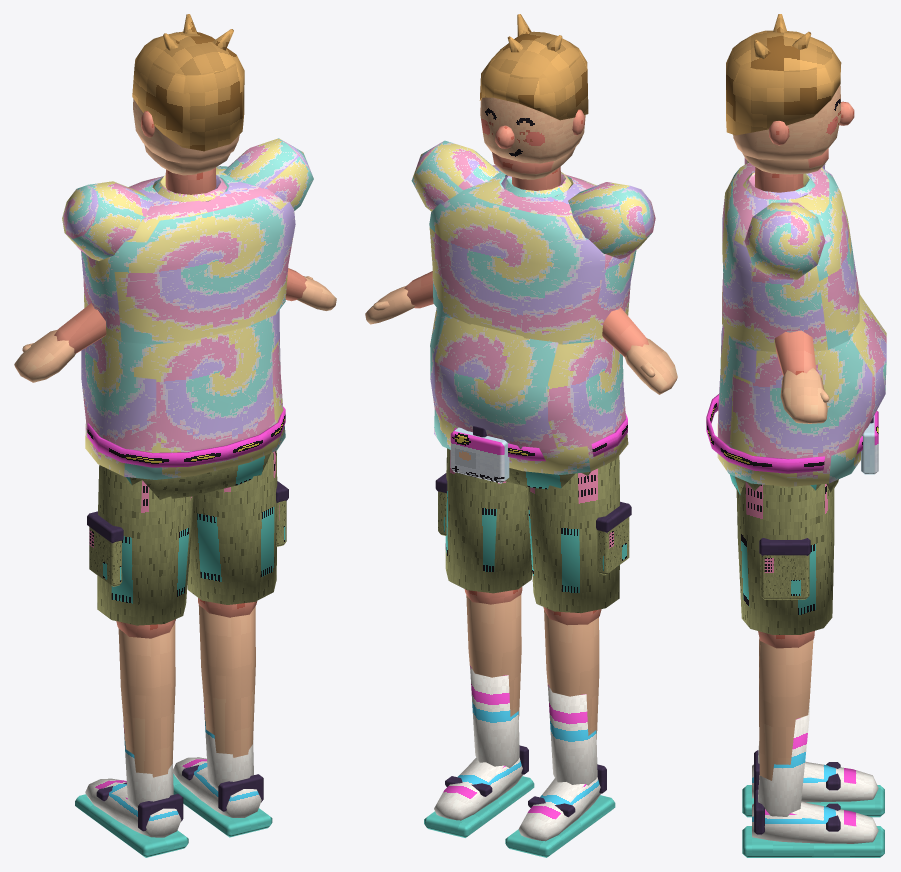
File: s_local_tiedye.glb
The picture shows the model from 3 angles, left to right: view 1: azimuth 30°, elevation 25°; view 2: azimuth 150°, elevation 25°; view 3: azimuth 270°, elevation 25°; orthographic projection. The views are drawn at different scales.
Visible parts, largest first — view 1: chest_m, spine_m, legL_m, head_m, legR_m, shinR_m, shinL_m, hips_m, footL_m, armL_m, footR_m, armR_m (+5 smaller); view 2: chest_m, spine_m, legL_m, head_m, legR_m, shinR_m, shinL_m, footR_m, footL_m, armL_m, hips_m, armR_m (+6 smaller); view 3: spine_m, chest_m, legR_m, head_m, shinR_m, footR_m, armR_m, footL_m, hips_m, handL_m, foreL_m, jaw_m (+1 smaller).
Boxes of the visible parts, left/top/right/bottom form: chest_m: left=81, top=166, right=295, bottom=344; spine_m: left=81, top=310, right=285, bottom=479; legL_m: left=87, top=465, right=193, bottom=638; head_m: left=132, top=14, right=244, bottom=163; legR_m: left=187, top=450, right=288, bottom=617; shinR_m: left=198, top=605, right=255, bottom=788; shinL_m: left=118, top=622, right=175, bottom=807; hips_m: left=87, top=406, right=285, bottom=499; footL_m: left=75, top=778, right=188, bottom=857; armL_m: left=62, top=181, right=152, bottom=260; footR_m: left=173, top=757, right=272, bottom=837; armR_m: left=219, top=138, right=313, bottom=210; chest_m: left=429, top=165, right=636, bottom=344; spine_m: left=430, top=308, right=628, bottom=474; legL_m: left=527, top=456, right=631, bottom=625; head_m: left=479, top=14, right=588, bottom=163; legR_m: left=435, top=448, right=532, bottom=604; shinR_m: left=466, top=595, right=521, bottom=767; shinL_m: left=544, top=610, right=599, bottom=785; footR_m: left=424, top=745, right=534, bottom=837; footL_m: left=505, top=764, right=615, bottom=857; armL_m: left=568, top=182, right=655, bottom=259; hips_m: left=450, top=413, right=627, bottom=489; armR_m: left=411, top=140, right=505, bottom=211; spine_m: left=717, top=294, right=886, bottom=486; chest_m: left=722, top=162, right=859, bottom=351; legR_m: left=736, top=481, right=834, bottom=648; head_m: left=726, top=14, right=854, bottom=160; shinR_m: left=758, top=640, right=813, bottom=816; footR_m: left=742, top=789, right=884, bottom=857; armR_m: left=744, top=202, right=825, bottom=279; footL_m: left=742, top=750, right=884, bottom=817; hips_m: left=706, top=394, right=878, bottom=494; handL_m: left=780, top=368, right=829, bottom=423; foreL_m: left=774, top=330, right=816, bottom=375; jaw_m: left=742, top=148, right=828, bottom=174.
Size of what is drawn, in the model's own units: 0.7267 by 1.8 by 0.3662.
2 materials, 2 textured.
